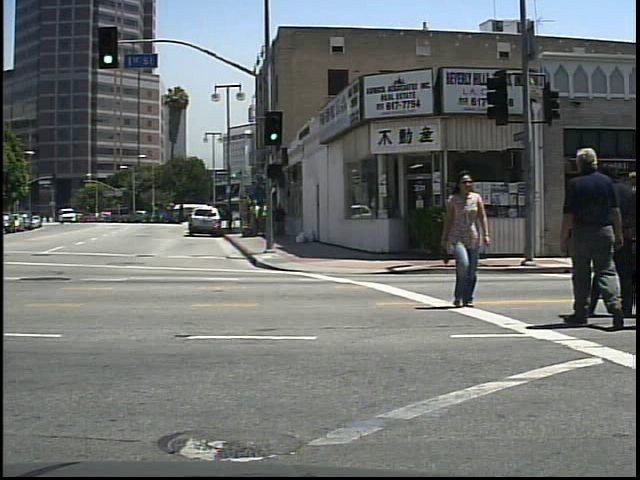person: (556, 139, 630, 336), (439, 169, 492, 311)
